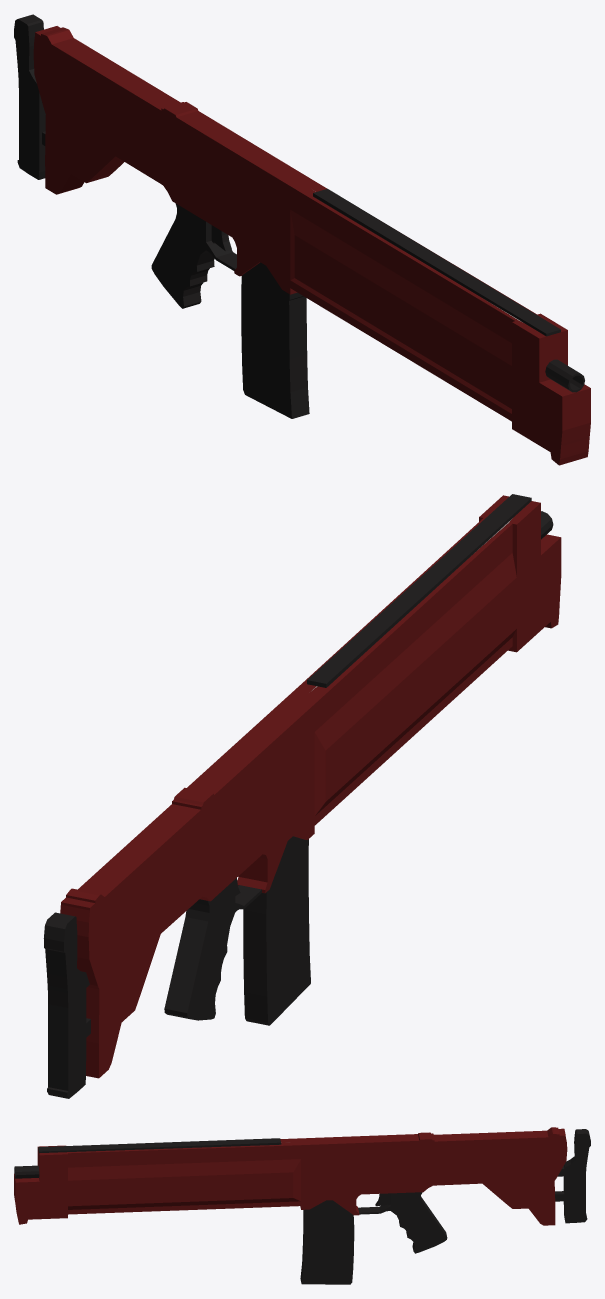
The model's file is AssaultClassGun.obj.
3 views of the same model, one above another, from view 1: azimuth 30°, elevation 25°; view 2: azimuth 150°, elevation 25°; view 3: azimuth 270°, elevation 25° (orthographic). The views are drawn at different scales.
Visible parts, largest first — view 1: Cube.001; view 2: Cube.001; view 3: Cube.001.
Part boxes in pixels (x1,y1,x2,y2): Cube.001: [14, 14, 590, 465]; Cube.001: [43, 494, 561, 1098]; Cube.001: [14, 1127, 590, 1284].
Bounding box in the file's own units: 0.9751 × 2.33 × 8.44.
1 material, 1 textured.
